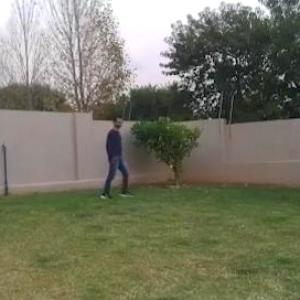follow: (105, 111, 127, 201)
